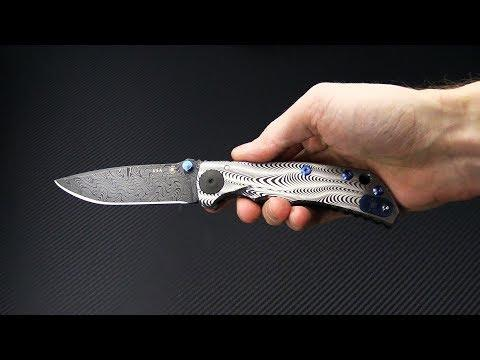Knife: (231, 70, 480, 230), (232, 78, 428, 232), (55, 157, 236, 214)
